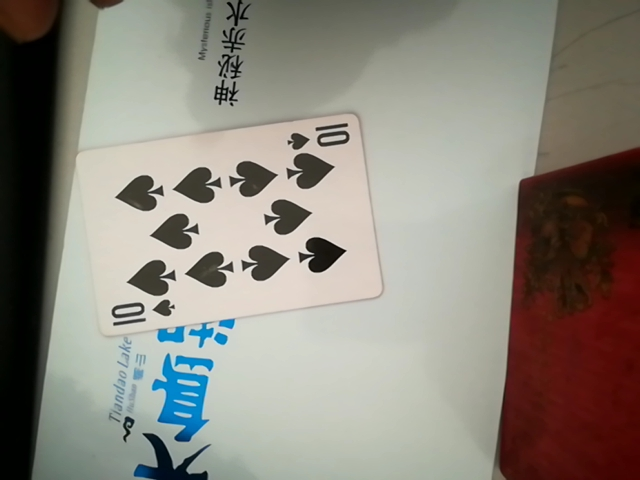ht 10: (69, 107, 393, 330)
